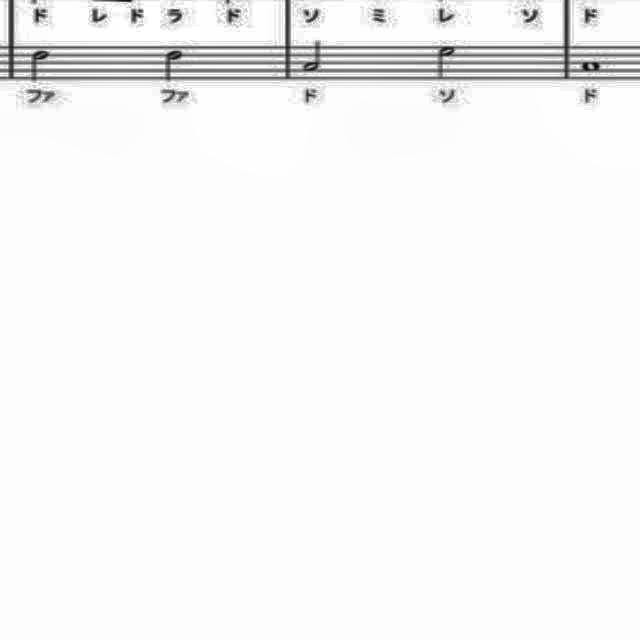Full-note: (578, 52, 608, 76)
Half-note: (428, 42, 476, 86), (156, 44, 192, 84), (296, 38, 336, 74), (26, 48, 60, 84)
